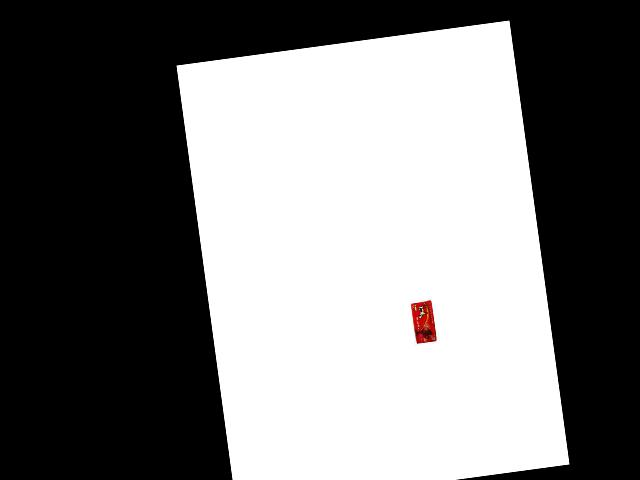chocolate: (410, 297, 439, 344)
